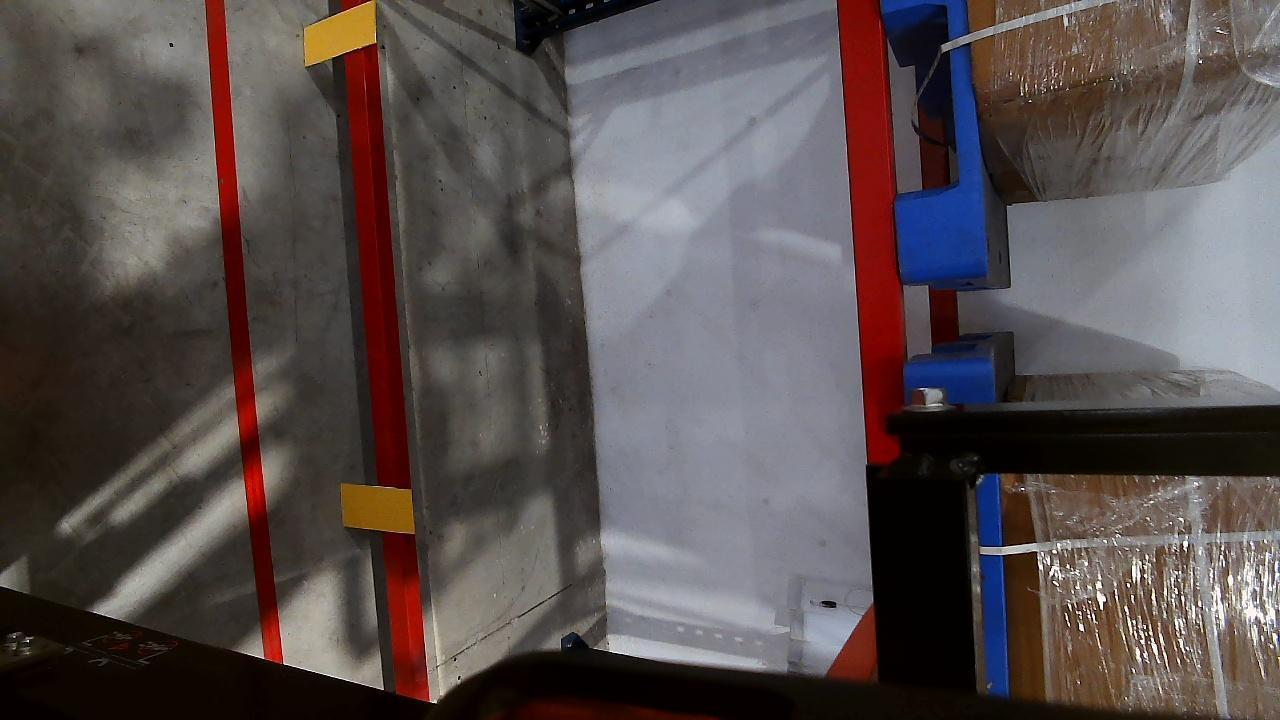red_line: (203, 3, 269, 617)
